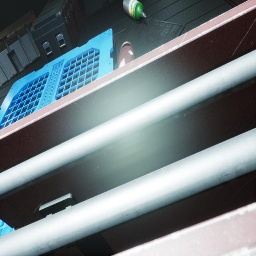0: (123, 0, 146, 22)
NitrogenTank ,: (118, 41, 136, 68)
